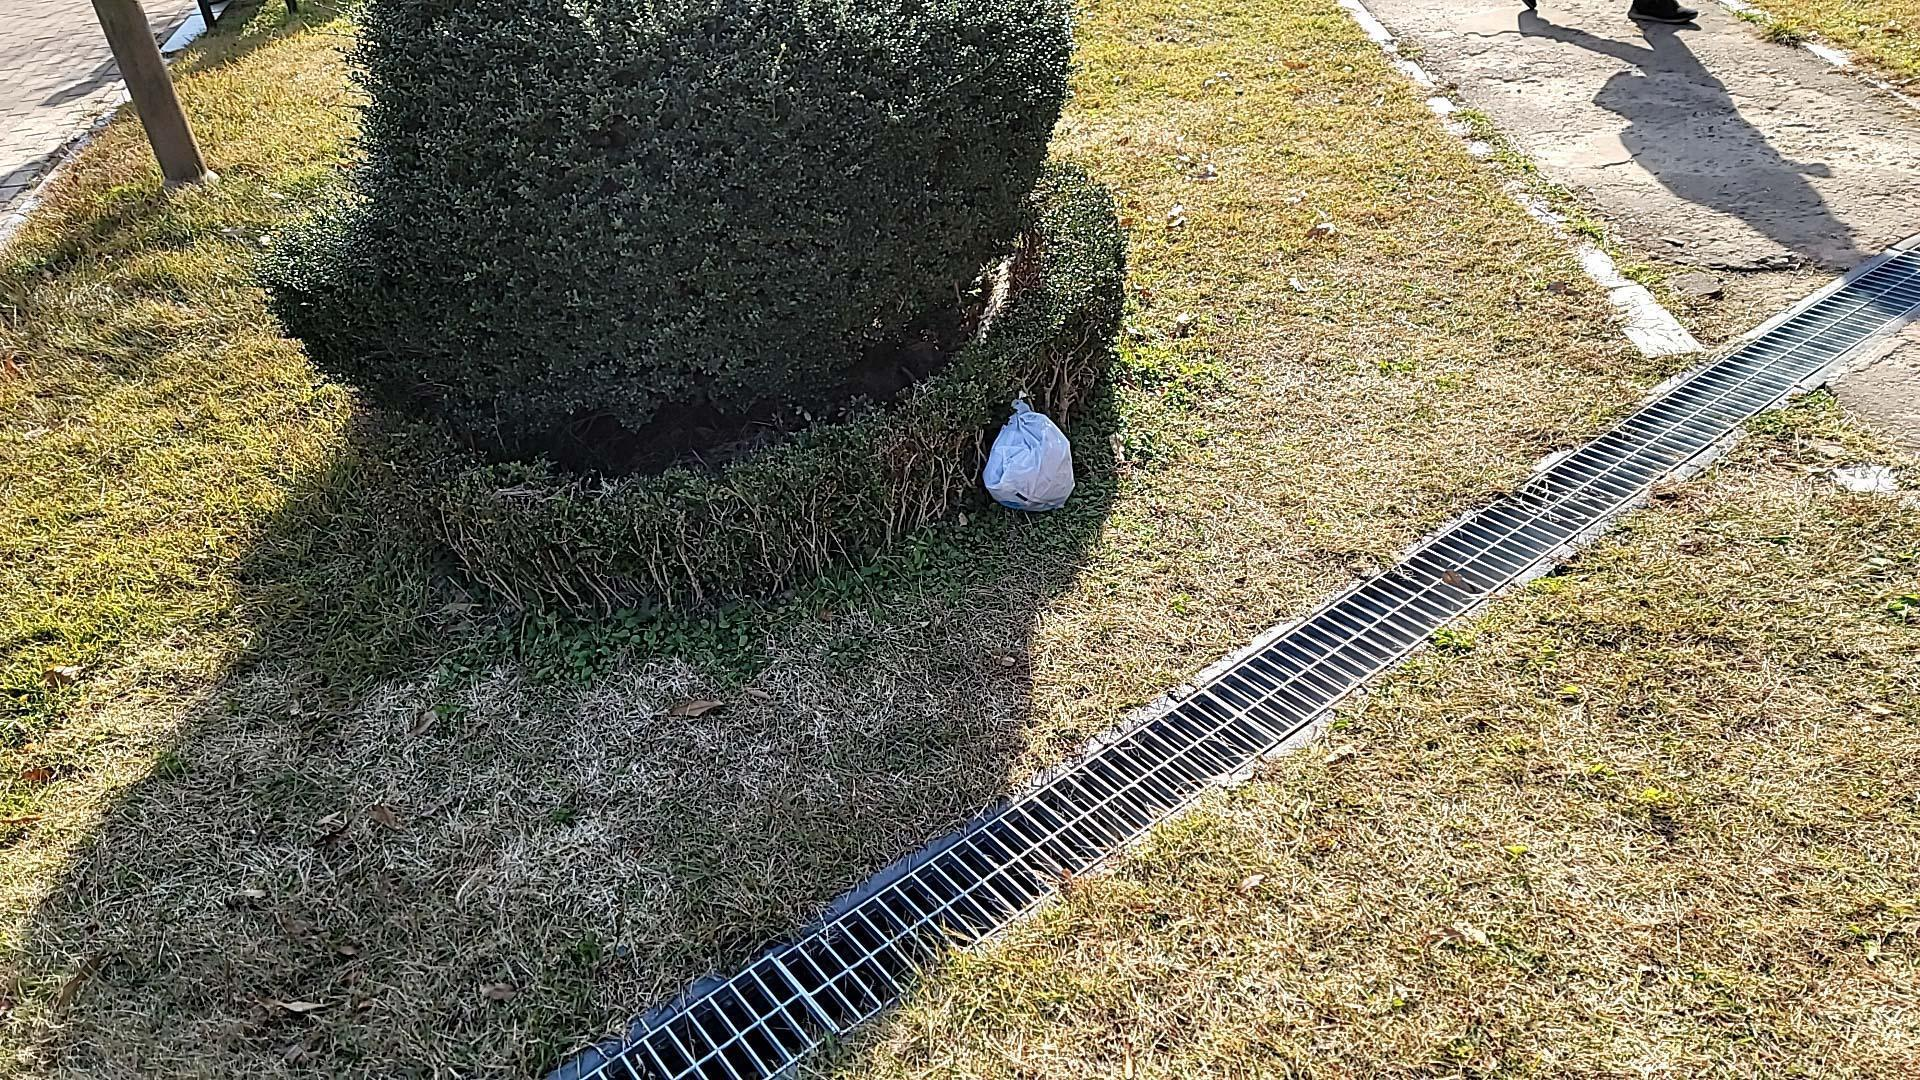white_bag: (975, 399, 1085, 518)
